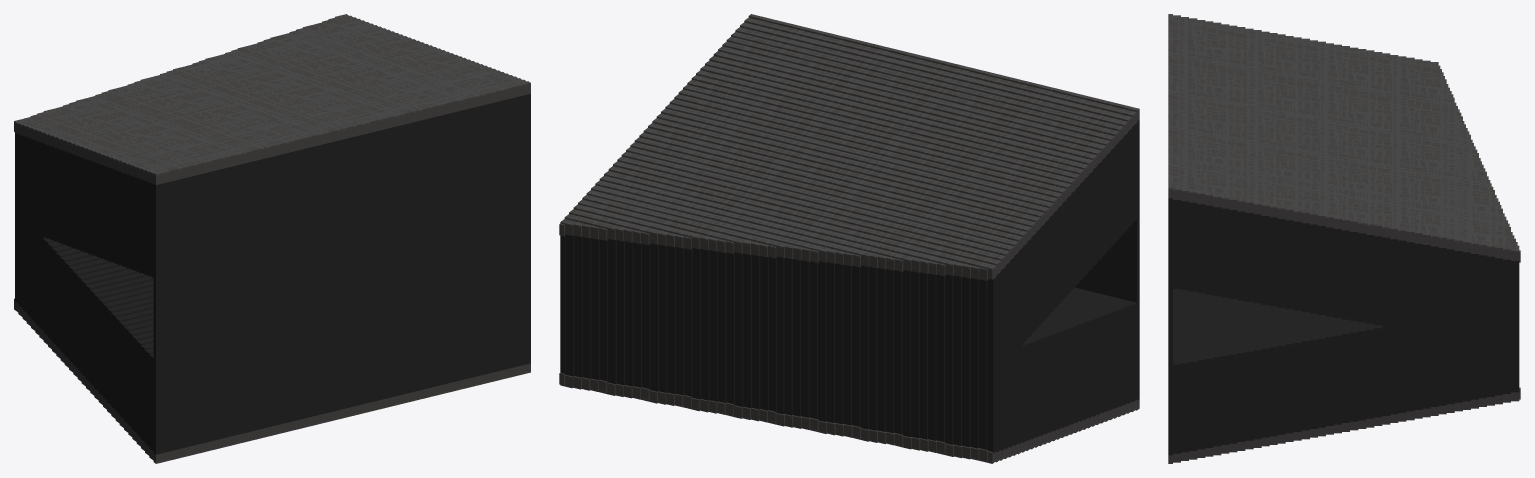
File: Space ship-1.obj
3 renders of one model, left to right at view 1: azimuth 30°, elevation 25°; view 2: azimuth 150°, elevation 25°; view 3: azimuth 270°, elevation 25°, orthographic. The views are drawn at different scales.
Size of the model in its own units: 25.6 by 18.9 by 21.9.
1 material, 1 textured.
